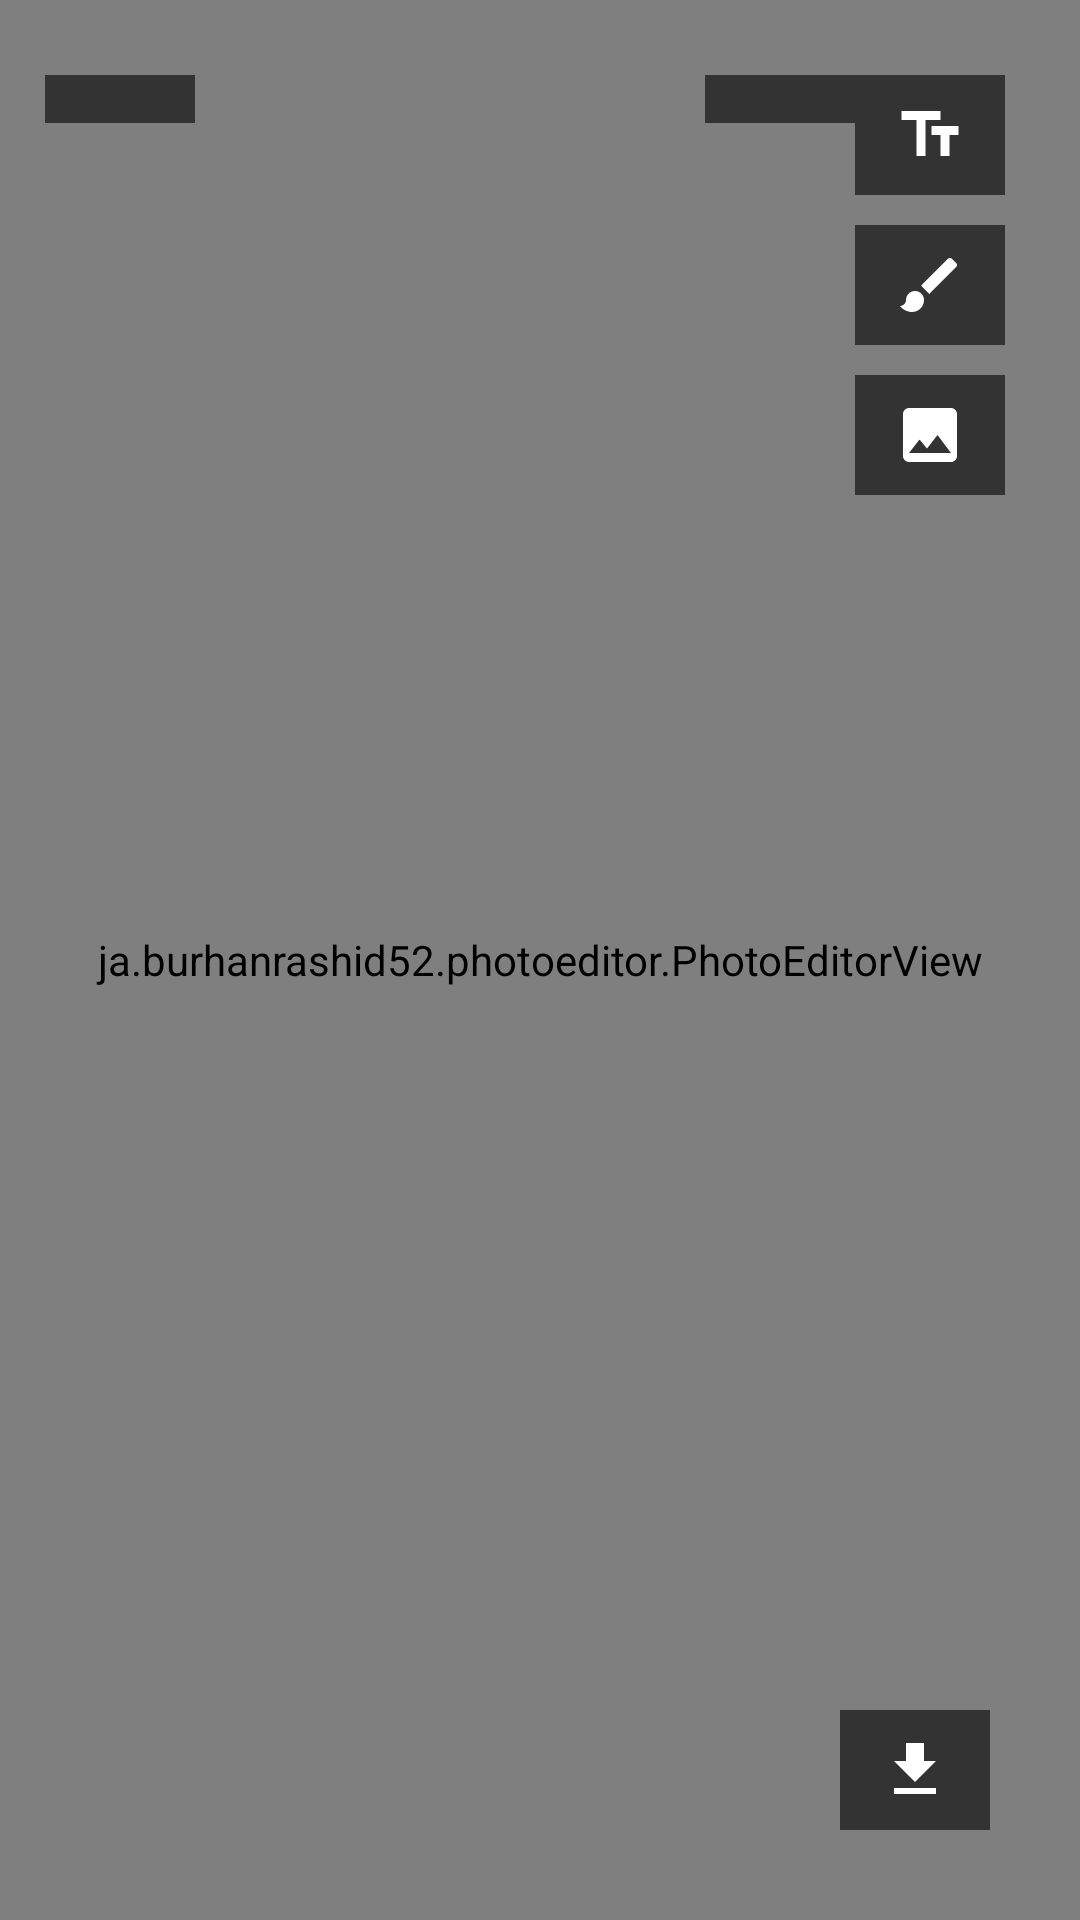

Icon click points for this 1080x1920 phone screenshot, format [x,y]:
brush: [930,285]
save: [915,1770]
text: [930,135]
